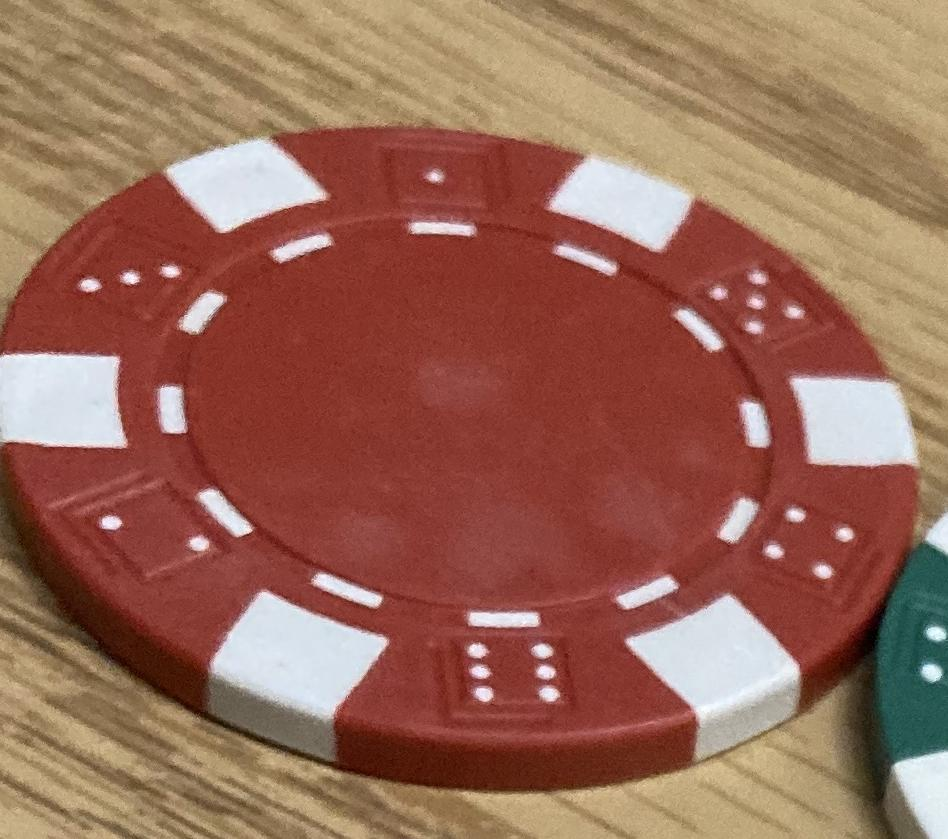Chip: (1, 1, 948, 839)
